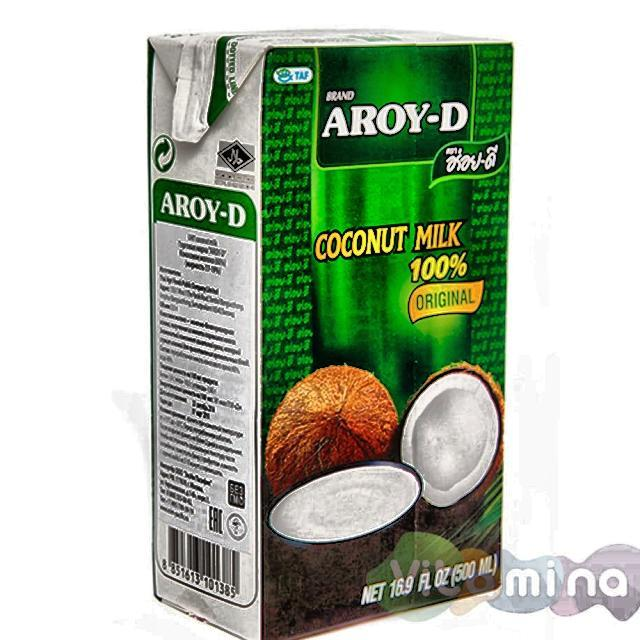cardboard: (146, 30, 513, 640)
